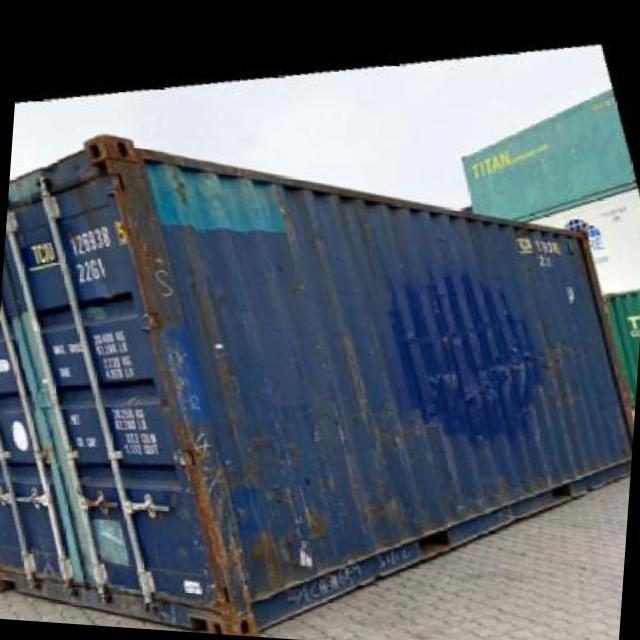Deframe_or_Dent: (208, 195, 288, 259)
Rust: (162, 422, 296, 603), (330, 329, 390, 446), (446, 472, 534, 530), (354, 486, 416, 558), (126, 232, 184, 308), (151, 158, 195, 222)
